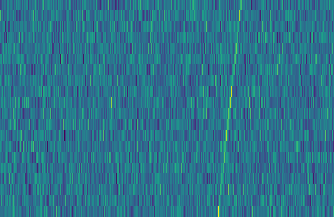signal: (214, 0, 247, 217)
